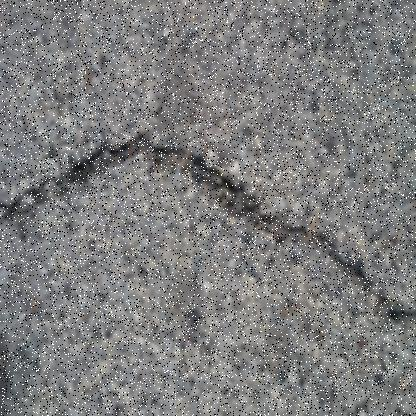Cracks: (0, 124, 415, 360)
